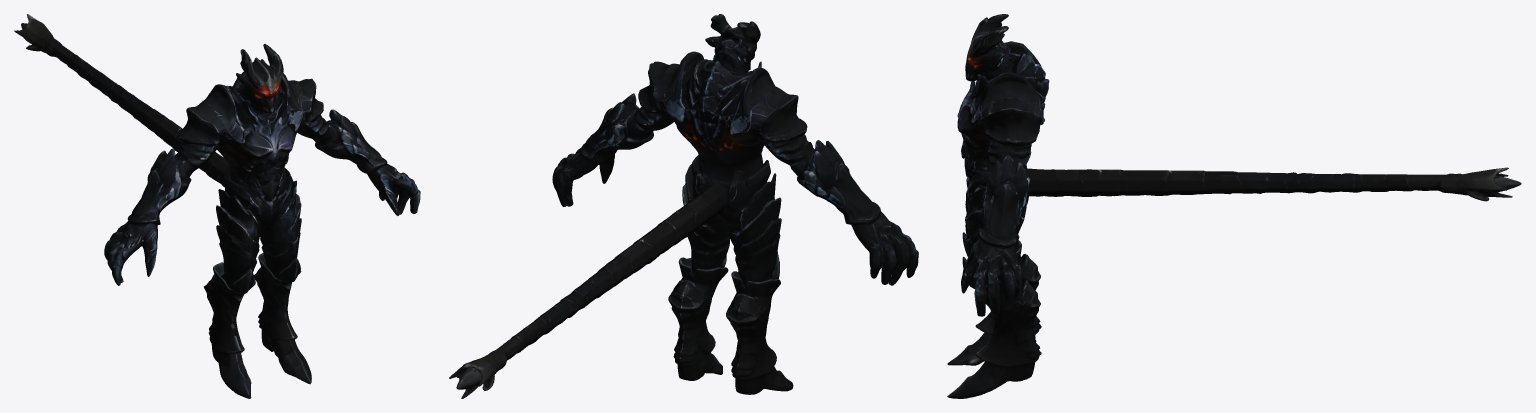
The picture shows the model from 3 angles, left to right: view 1: azimuth 30°, elevation 25°; view 2: azimuth 150°, elevation 25°; view 3: azimuth 270°, elevation 25°; orthographic projection. The views are drawn at different scales.
Visible parts, largest first — view 1: tripo_node_25dc1f37; view 2: tripo_node_25dc1f37; view 3: tripo_node_25dc1f37.
Part boxes in pixels (x1,y1,x2,y2): tripo_node_25dc1f37: [14, 14, 420, 398]; tripo_node_25dc1f37: [449, 14, 918, 398]; tripo_node_25dc1f37: [947, 14, 1521, 398].
Size of the model in its own units: 68.44 by 100 by 69.37.
1 material, 1 textured.
